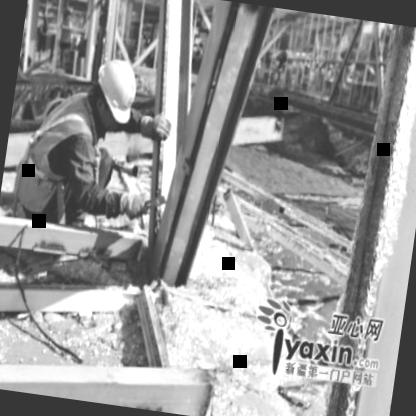helmet: (84, 50, 143, 130)
